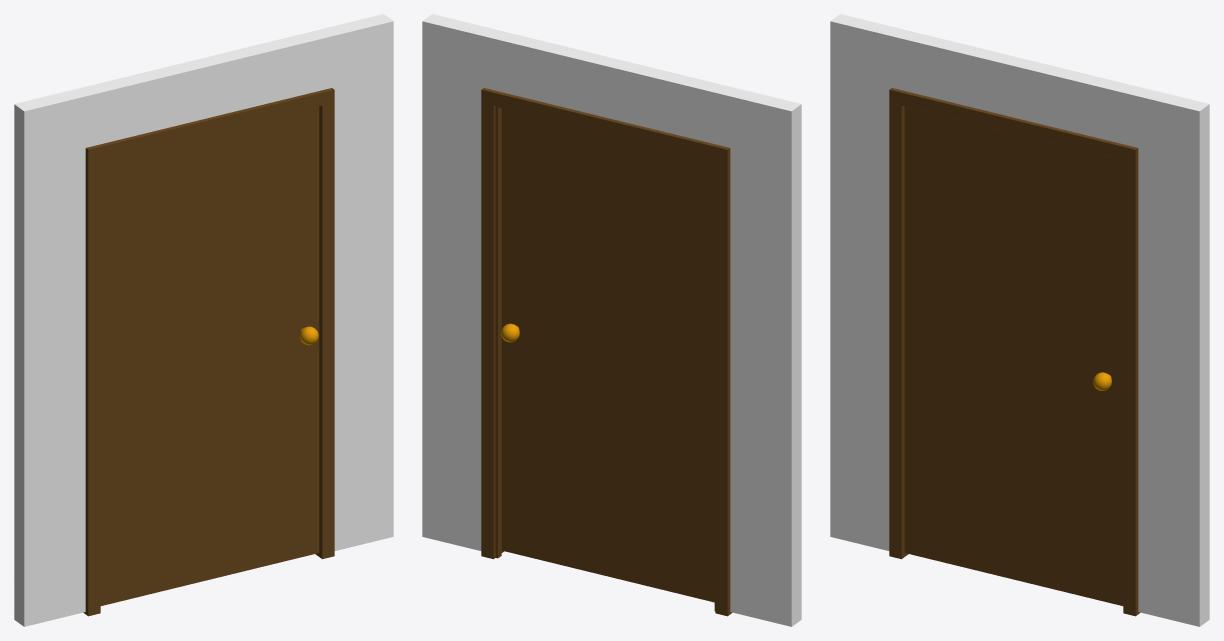
File: Door.fbx
3 views of the same model, side by side, from view 1: azimuth 30°, elevation 25°; view 2: azimuth 150°, elevation 25°; view 3: azimuth 330°, elevation 25° (orthographic).
Parts seen in each view (by area): view 1: DoorFrame, Door; view 2: DoorFrame, Door; view 3: DoorFrame, Door.
Boxes of the visible parts, x1=… form: DoorFrame: x1=14, y1=14, x2=393, y2=626; Door: x1=100, y1=106, x2=319, y2=605; DoorFrame: x1=422, y1=14, x2=801, y2=626; Door: x1=501, y1=108, x2=714, y2=602; DoorFrame: x1=830, y1=14, x2=1209, y2=626; Door: x1=904, y1=106, x2=1123, y2=605.
Size of the model in its own units: 150 by 19.91 by 201.
